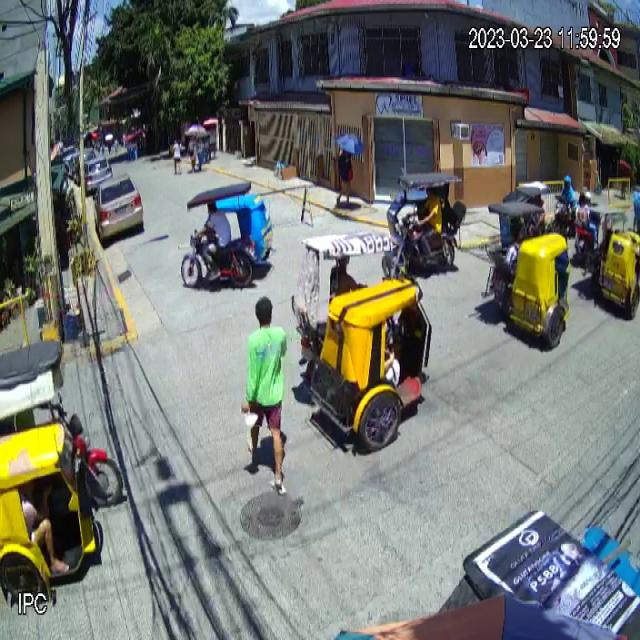Car: (94, 172, 144, 245)
Tricycle: (0, 341, 124, 600), (291, 234, 433, 452), (478, 202, 568, 351), (180, 182, 273, 288), (386, 167, 467, 278)
